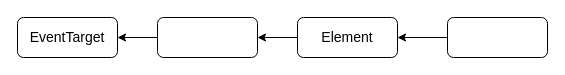
This 565x75 diagram has some shape labels left out. Here are the shapes that lost their labels. From the top down, the centre of each, then its label:
At (x=207, y=37): "Node".
At (x=497, y=37): "HTMLElement".
